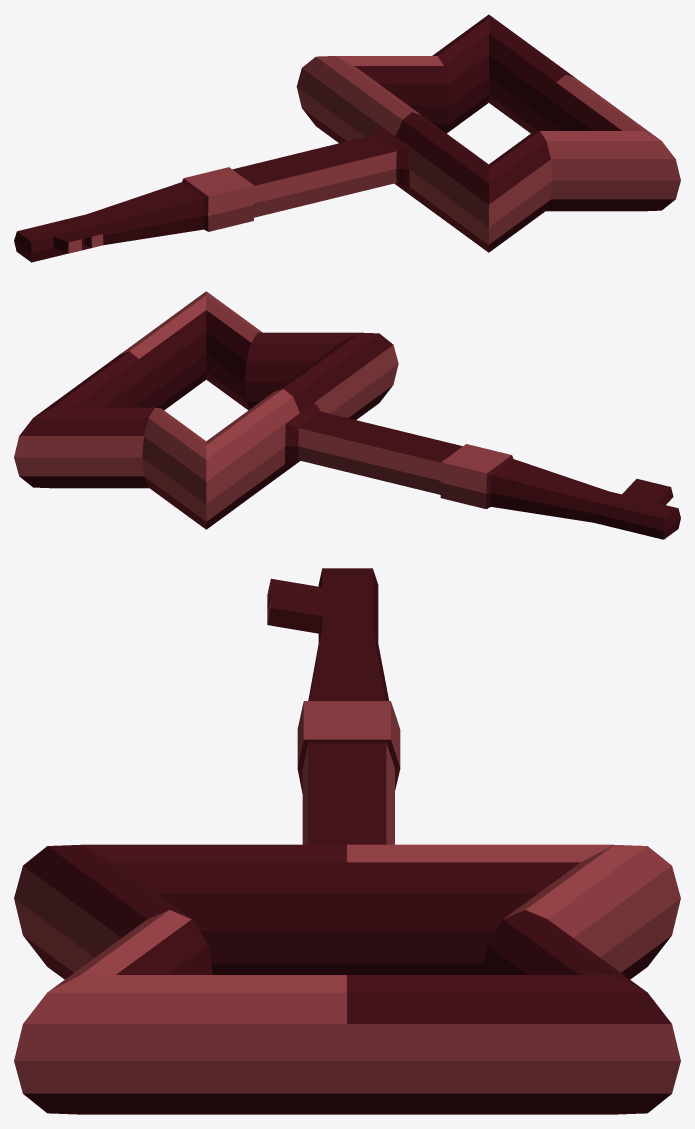
Rendered from MazeKeyvv2.glb.
3 renders of one model, top to bottom at view 1: azimuth 30°, elevation 25°; view 2: azimuth 150°, elevation 25°; view 3: azimuth 270°, elevation 25°, orthographic. The views are drawn at different scales.
Parts seen in each view (by area): view 1: Torus; view 2: Torus; view 3: Torus.
Boxes of the visible parts, x1,y1,x2,y2 form: Torus: (14,14,680,262); Torus: (14,291,680,539); Torus: (14,568,680,1114).
Bounding box in the file's own units: 3.66 × 0.5 × 2.17.
